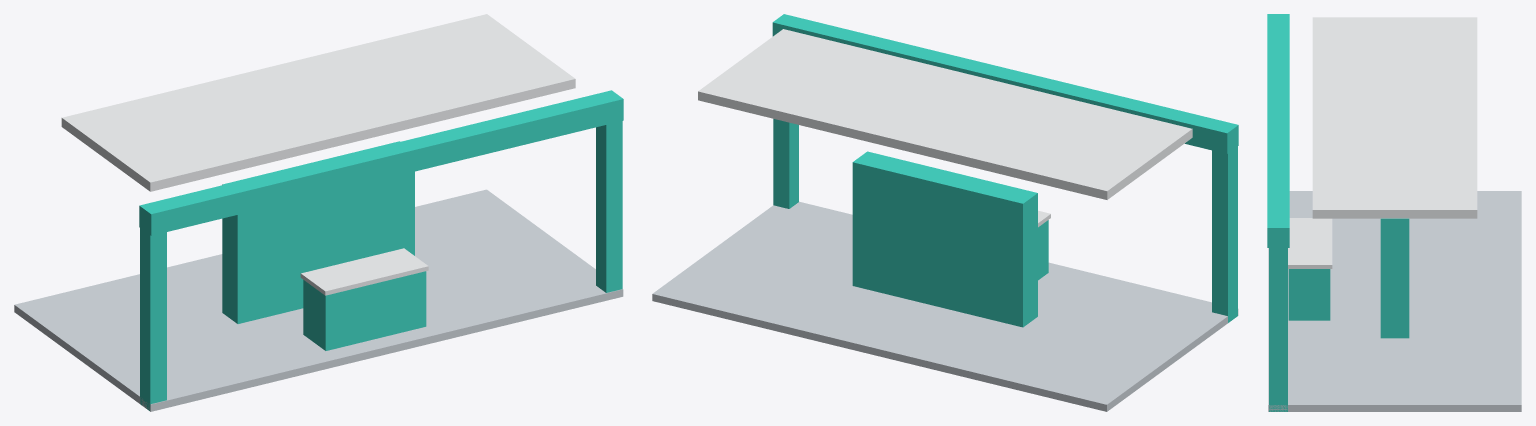
The picture shows the model from 3 angles, left to right: view 1: azimuth 30°, elevation 25°; view 2: azimuth 150°, elevation 25°; view 3: azimuth 270°, elevation 25°; orthographic projection. The views are drawn at different scales.
Visible parts, largest first — view 1: Exhibition Booth Concept; view 2: Exhibition Booth Concept; view 3: Exhibition Booth Concept.
Part boxes in pixels (x1=…): Exhibition Booth Concept: x1=14, y1=14, x2=623, y2=411; Exhibition Booth Concept: x1=652, y1=14, x2=1238, y2=411; Exhibition Booth Concept: x1=1267, y1=14, x2=1521, y2=411.
Size of the model in its own units: 8 by 3.34 by 4.02.
